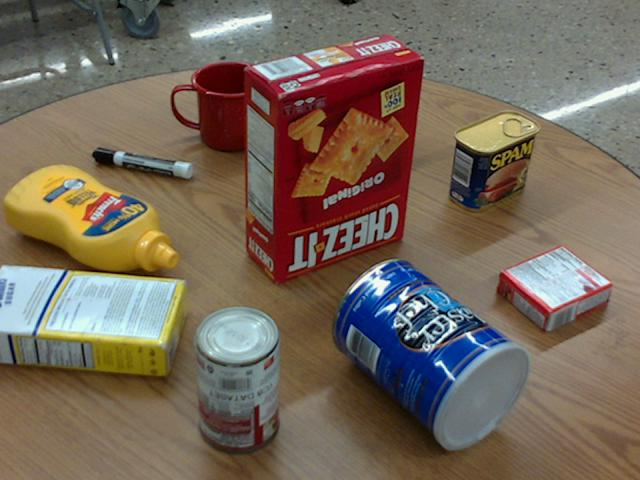cracker_box: (242, 32, 424, 283)
gelatin_box: (496, 243, 612, 330)
large_marker: (92, 148, 192, 178)
master_chef_can: (332, 257, 533, 450)
mug: (171, 62, 267, 152)
mustard_bottle: (4, 164, 177, 271)
potted_meat_can: (449, 110, 538, 212)
sugar_box: (0, 262, 186, 377)
tomato_soup_can: (195, 304, 282, 452)
tuna_fish_can: (336, 84, 409, 157)
